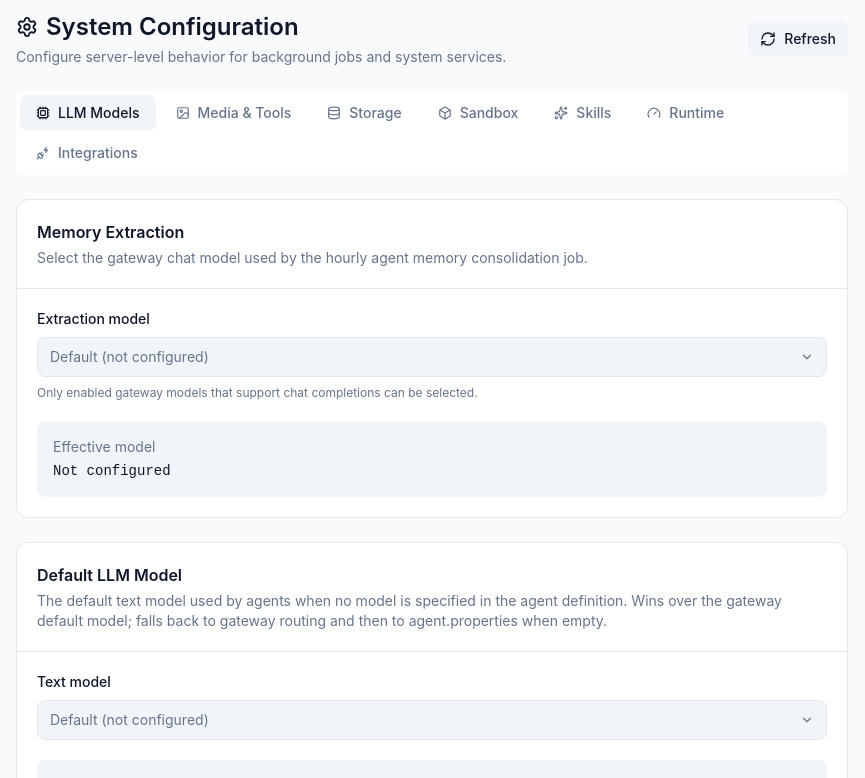
Scenario: SystemSettings sandbox resume control › shows the requested and server-authoritative runtime states
The image size is (865, 778).
Click the button "Sandbox" at coordinates (478, 113), box [422,95,534,131]
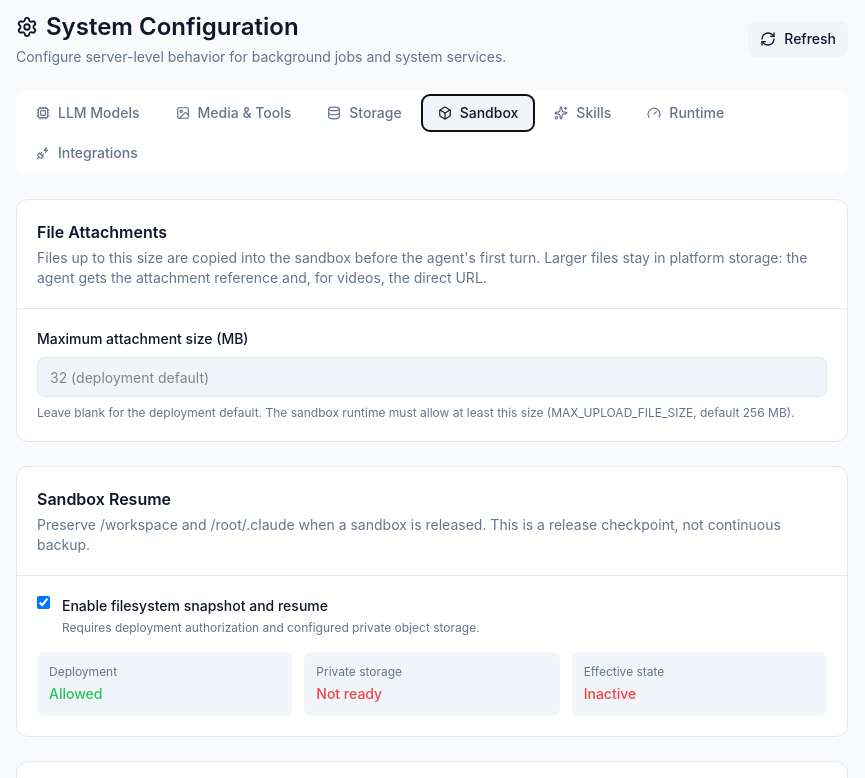
Expected: the checkbox labelled "Enable filesystem snapshot and resume" is checked, [37,596,50,609]
Expected: the text "Allowed" is shown, [49,685,102,702]
Expected: the text "Not ready" is shown, [316,685,382,702]
